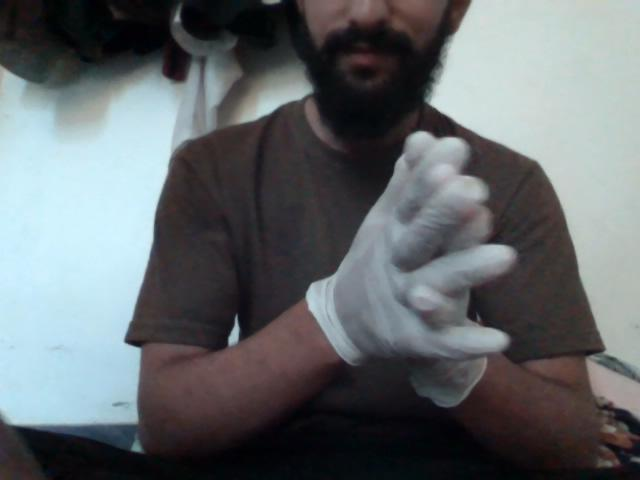gloves: (321, 117, 556, 401)
